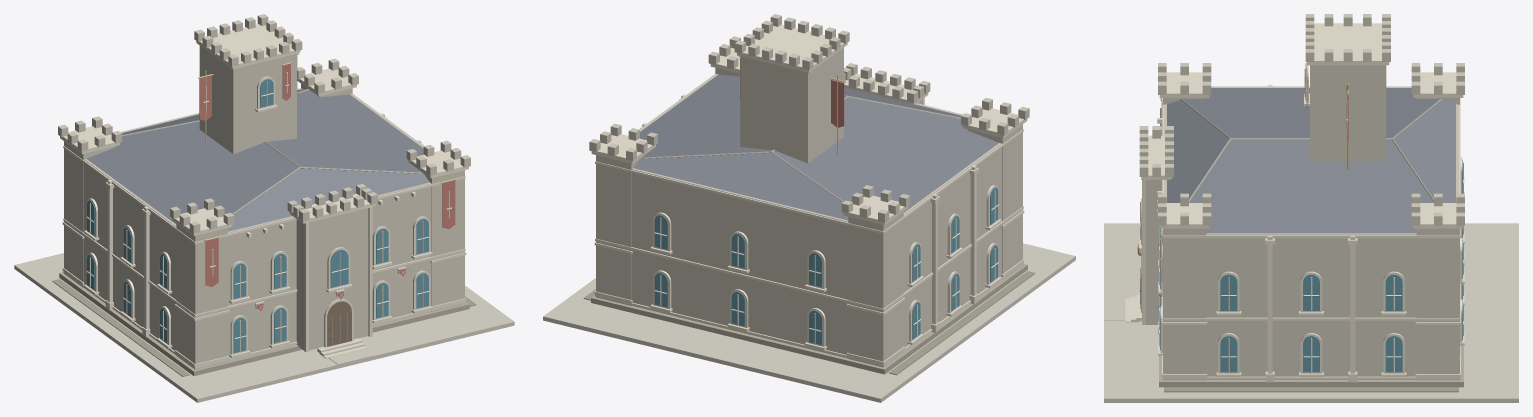
The model's file is WarriorAcademy_Lv5.fbx.
3 renders of one model, left to right at view 1: azimuth 30°, elevation 25°; view 2: azimuth 150°, elevation 25°; view 3: azimuth 270°, elevation 25°, orthographic. The views are drawn at different scales.
Parts seen in each view (by area): view 1: Slate hip roof.005, Main school walls.015, Corner bastion.003, Fixed 26m plot.015, Merlons.004, Central command tower.004, Projecting entrance bay.015, Window glass.015, Battlement cornice.004, Window frame.015, Stone stringcourse.015, School foundation.015 (+10 smaller); view 2: Main school walls.015, Slate hip roof.005, Corner bastion.003, Fixed 26m plot.015, Central command tower.004, Merlons.004, Battlement cornice.004, Stone stringcourse.015, Window glass.015, School foundation.015, Window frame.015, Decor side pilasters.015 (+6 smaller); view 3: Slate hip roof.005, Main school walls.015, Fixed 26m plot.015, Corner bastion.003, Central command tower.004, Battlement cornice.004, Merlons.004, Window glass.015, Stone stringcourse.015, Window frame.015, School foundation.015, Projecting entrance bay.015 (+9 smaller).
Part boxes in pixels (x1,y1,x2,y2): Slate hip roof.005: (86,89,429,231); Main school walls.015: (83,88,431,361); Corner bastion.003: (64,84,464,369); Fixed 26m plot.015: (14,253,514,402); Merlons.004: (58,14,470,233); Central command tower.004: (199,45,296,154); Projecting entrance bay.015: (296,208,368,350); Window glass.015: (87,79,428,353); Battlement cornice.004: (60,24,468,236); Window frame.015: (86,76,430,354); Stone stringcourse.015: (63,88,465,368); School foundation.015: (59,272,469,376); Main school walls.015: (631,74,1001,358); Slate hip roof.005: (633,74,998,220); Corner bastion.003: (596,68,1022,367); Fixed 26m plot.015: (543,243,1075,402); Central command tower.004: (740,47,843,163); Merlons.004: (589,14,1029,222); Battlement cornice.004: (591,24,1027,225); Stone stringcourse.015: (595,74,1023,366); Window glass.015: (654,187,998,345); School foundation.015: (591,264,1027,374); Window frame.015: (653,185,998,346); Decor side pilasters.015: (642,94,976,324); Slate hip roof.005: (1167,88,1455,233); Main school walls.015: (1164,86,1458,379); Fixed 26m plot.015: (1104,223,1518,402); Corner bastion.003: (1163,98,1459,380); Central command tower.004: (1310,65,1386,161); Battlement cornice.004: (1141,23,1463,228); Merlons.004: (1139,14,1464,225); Window glass.015: (1141,69,1462,372); Stone stringcourse.015: (1162,86,1460,379); Window frame.015: (1160,65,1462,373); School foundation.015: (1159,345,1463,387); Projecting entrance bay.015: (1146,180,1162,324).
Size of the model in its own units: 26 by 19.5 by 26.
